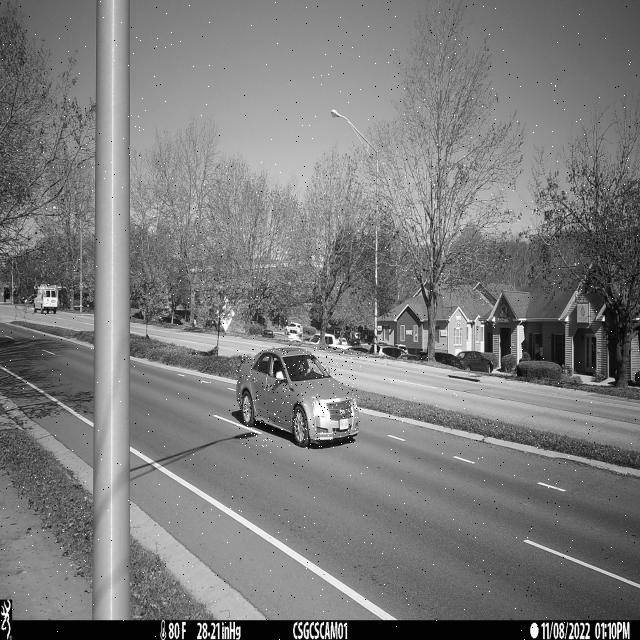Sedan: (236, 347, 359, 449)
